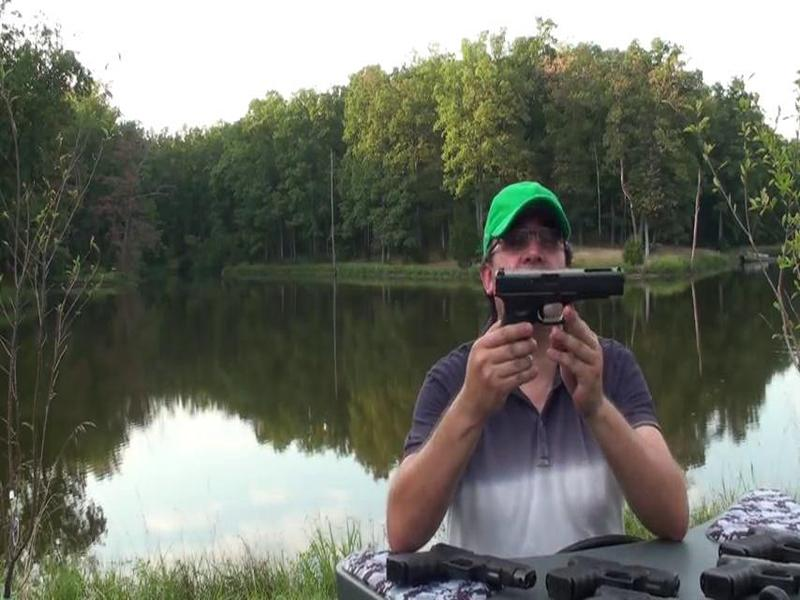Pistola: (478, 250, 633, 376)
